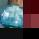altar: (23, 0, 39, 28)
slime: (0, 0, 23, 28)
